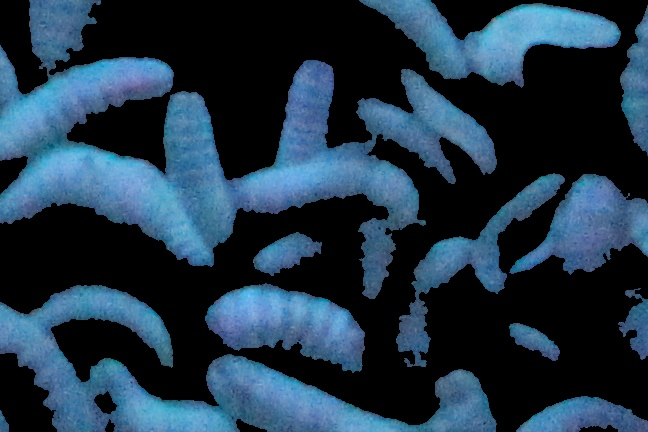larvae: (1, 147, 217, 267), (1, 55, 172, 164), (203, 356, 420, 432), (203, 282, 365, 371), (1, 300, 109, 432), (473, 1, 621, 86), (463, 171, 562, 293), (39, 282, 176, 369), (238, 161, 420, 225), (394, 235, 470, 376), (164, 90, 234, 240), (403, 68, 497, 176), (339, 1, 469, 77), (352, 97, 457, 183), (265, 61, 345, 157), (516, 388, 648, 432), (19, 1, 102, 66), (253, 225, 341, 282), (433, 361, 497, 432), (118, 396, 234, 432), (354, 217, 396, 300)
